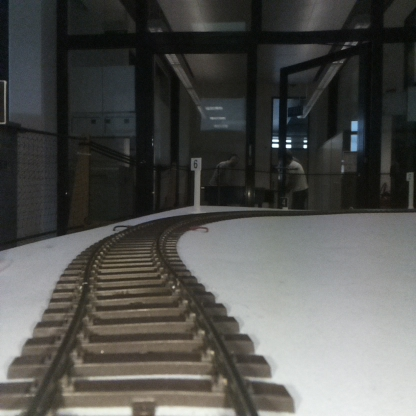white-info-6: (191, 158, 201, 210)
